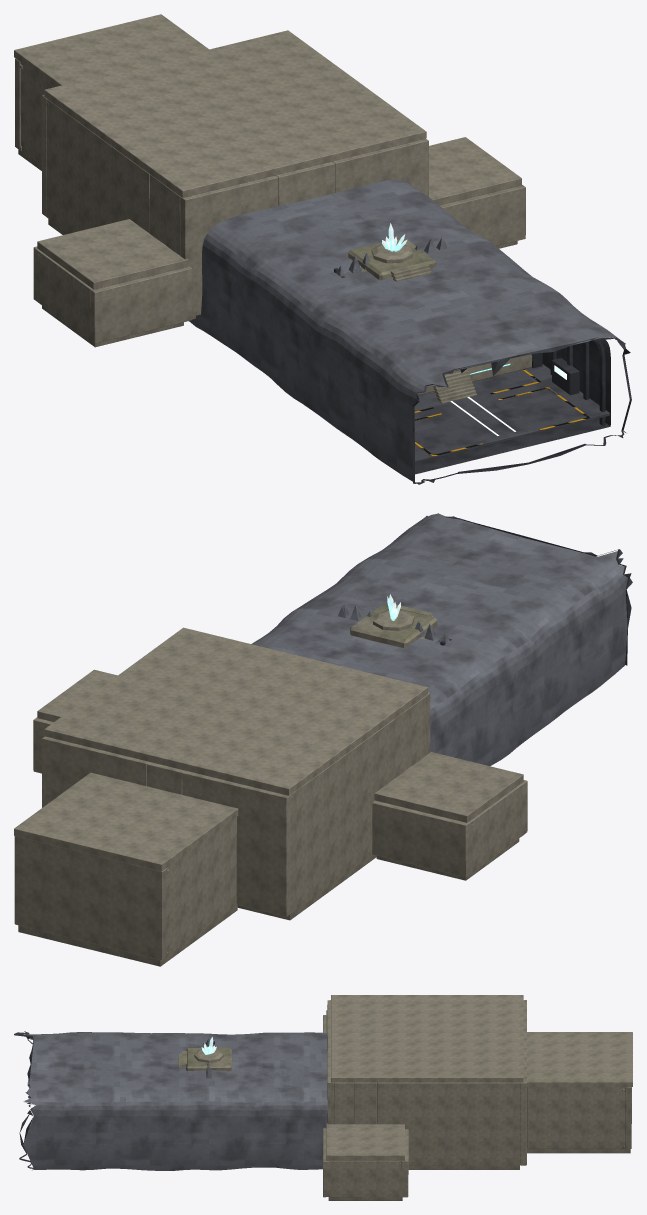
Rendered from canyon_kit.glb.
3 views of the same model, one above another, from view 1: azimuth 30°, elevation 25°; view 2: azimuth 150°, elevation 25°; view 3: azimuth 270°, elevation 25° (orthographic). The views are drawn at different scales.
Parts seen in each view (by area): view 1: TempleHall, HangarShell, TempleStep; view 2: TempleHall, HangarShell, TempleStep; view 3: TempleHall, HangarShell, TempleStep.
Part boxes in pixels (x1,y1,x2,y2): TempleHall: [14, 14, 525, 347]; HangarShell: [189, 180, 631, 484]; TempleStep: [348, 223, 532, 403]; TempleHall: [14, 627, 527, 966]; HangarShell: [251, 513, 632, 765]; TempleStep: [350, 594, 437, 647]; TempleHall: [322, 995, 632, 1200]; HangarShell: [14, 1031, 377, 1170]; TempleStep: [178, 1036, 231, 1071].
Bounding box in the file's own units: 60.85 × 19.19 × 109.
20 materials, 13 textured.
